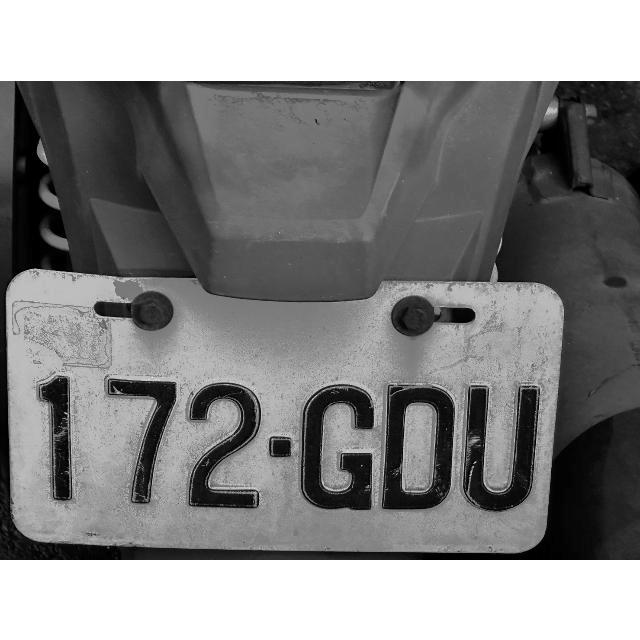-: (266, 432, 296, 460)
1: (34, 371, 88, 505)
2: (185, 378, 262, 514)
7: (100, 373, 178, 509)
D: (382, 375, 456, 513)
G: (296, 379, 376, 513)
U: (462, 380, 542, 514)
